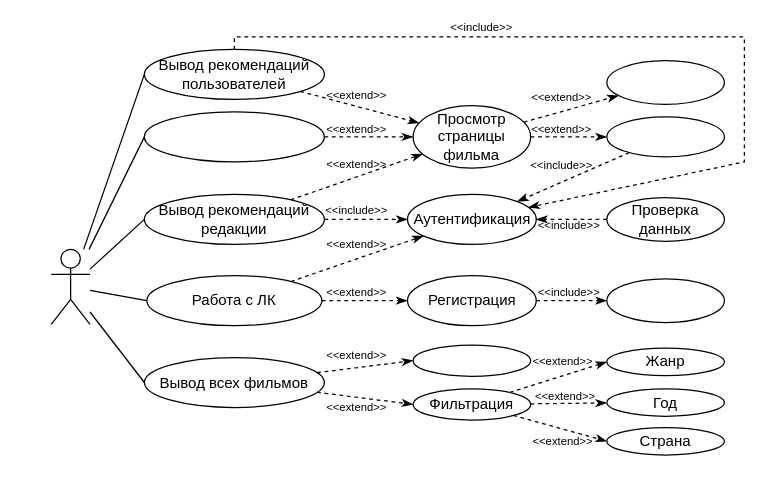
The diagram is 776 pixels wide and 478 high, and some of its shapes have lost their labels. Each missing label, with the centre of its shape:
Внесение данных: the point at 665,300
Оценивание фильма: the point at 665,136
Поиск фильмов: the point at 233,136
Пользователь: the point at 70,286
Просмотр фильма: the point at 665,81
Сортировка: the point at 471,360
